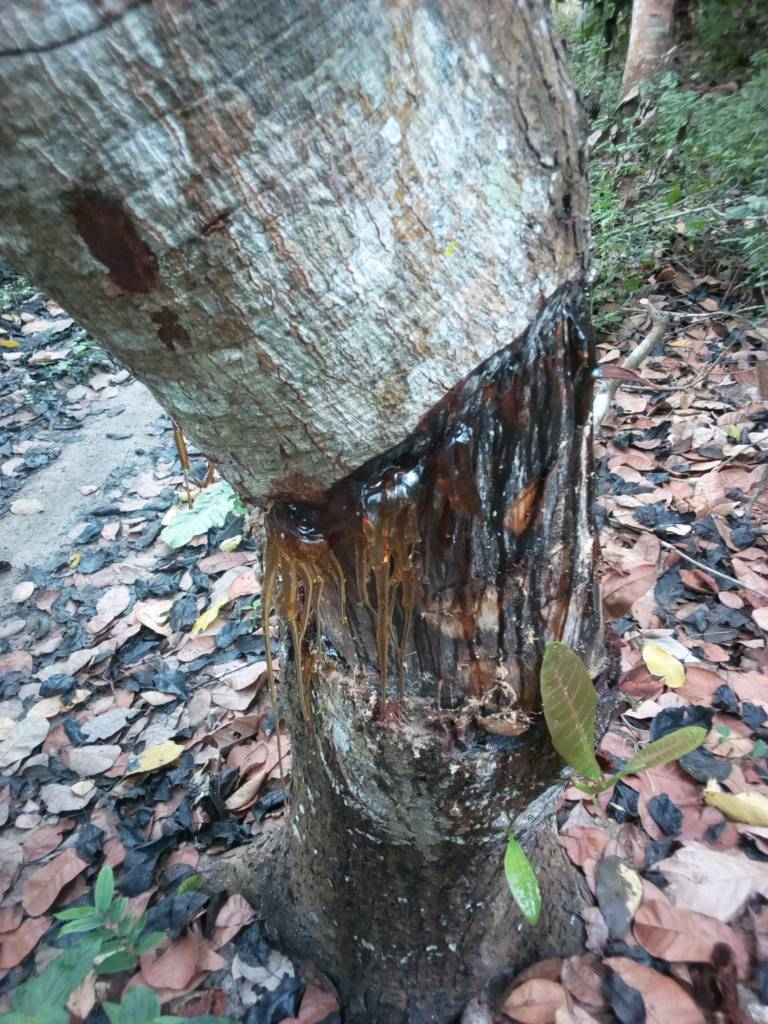Gommose: (205, 342, 602, 733)
